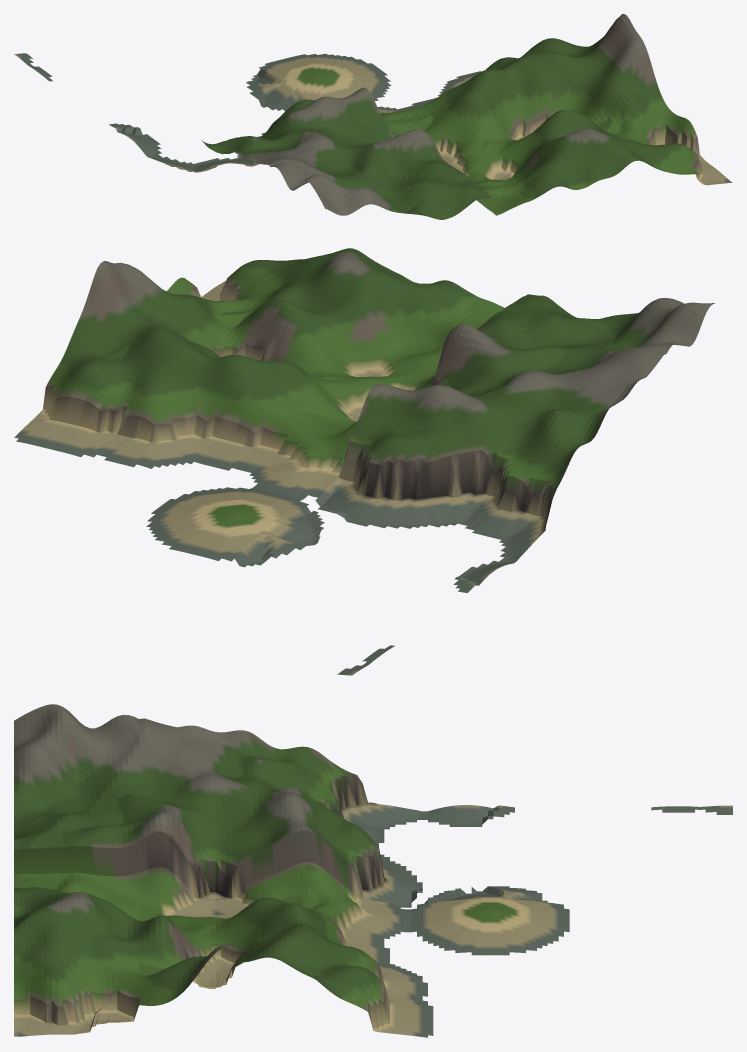
File: coast_tile_x1z3.glb
3 views of the same model, one above another, from view 1: azimuth 30°, elevation 25°; view 2: azimuth 150°, elevation 25°; view 3: azimuth 270°, elevation 25° (orthographic). The views are drawn at different scales.
Visible parts, largest first — view 1: geometry_0; view 2: geometry_0; view 3: geometry_0.
Boxes of the visible parts, bbox=[...] form: geometry_0: bbox=[14, 14, 732, 219]; geometry_0: bbox=[14, 248, 715, 675]; geometry_0: bbox=[14, 704, 732, 1037].
Bounding box in the file's own units: 600 × 134 × 792.
